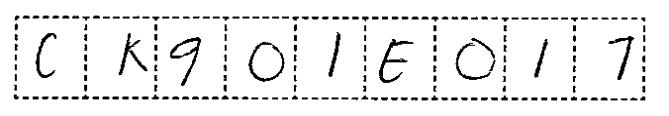0: (450, 32, 500, 87), (242, 37, 290, 86)
1: (314, 29, 352, 82), (523, 34, 560, 84)
7: (600, 30, 640, 86)
9: (166, 32, 208, 89)
C: (30, 27, 66, 82)
E: (375, 35, 417, 88)
K: (113, 30, 152, 80)
